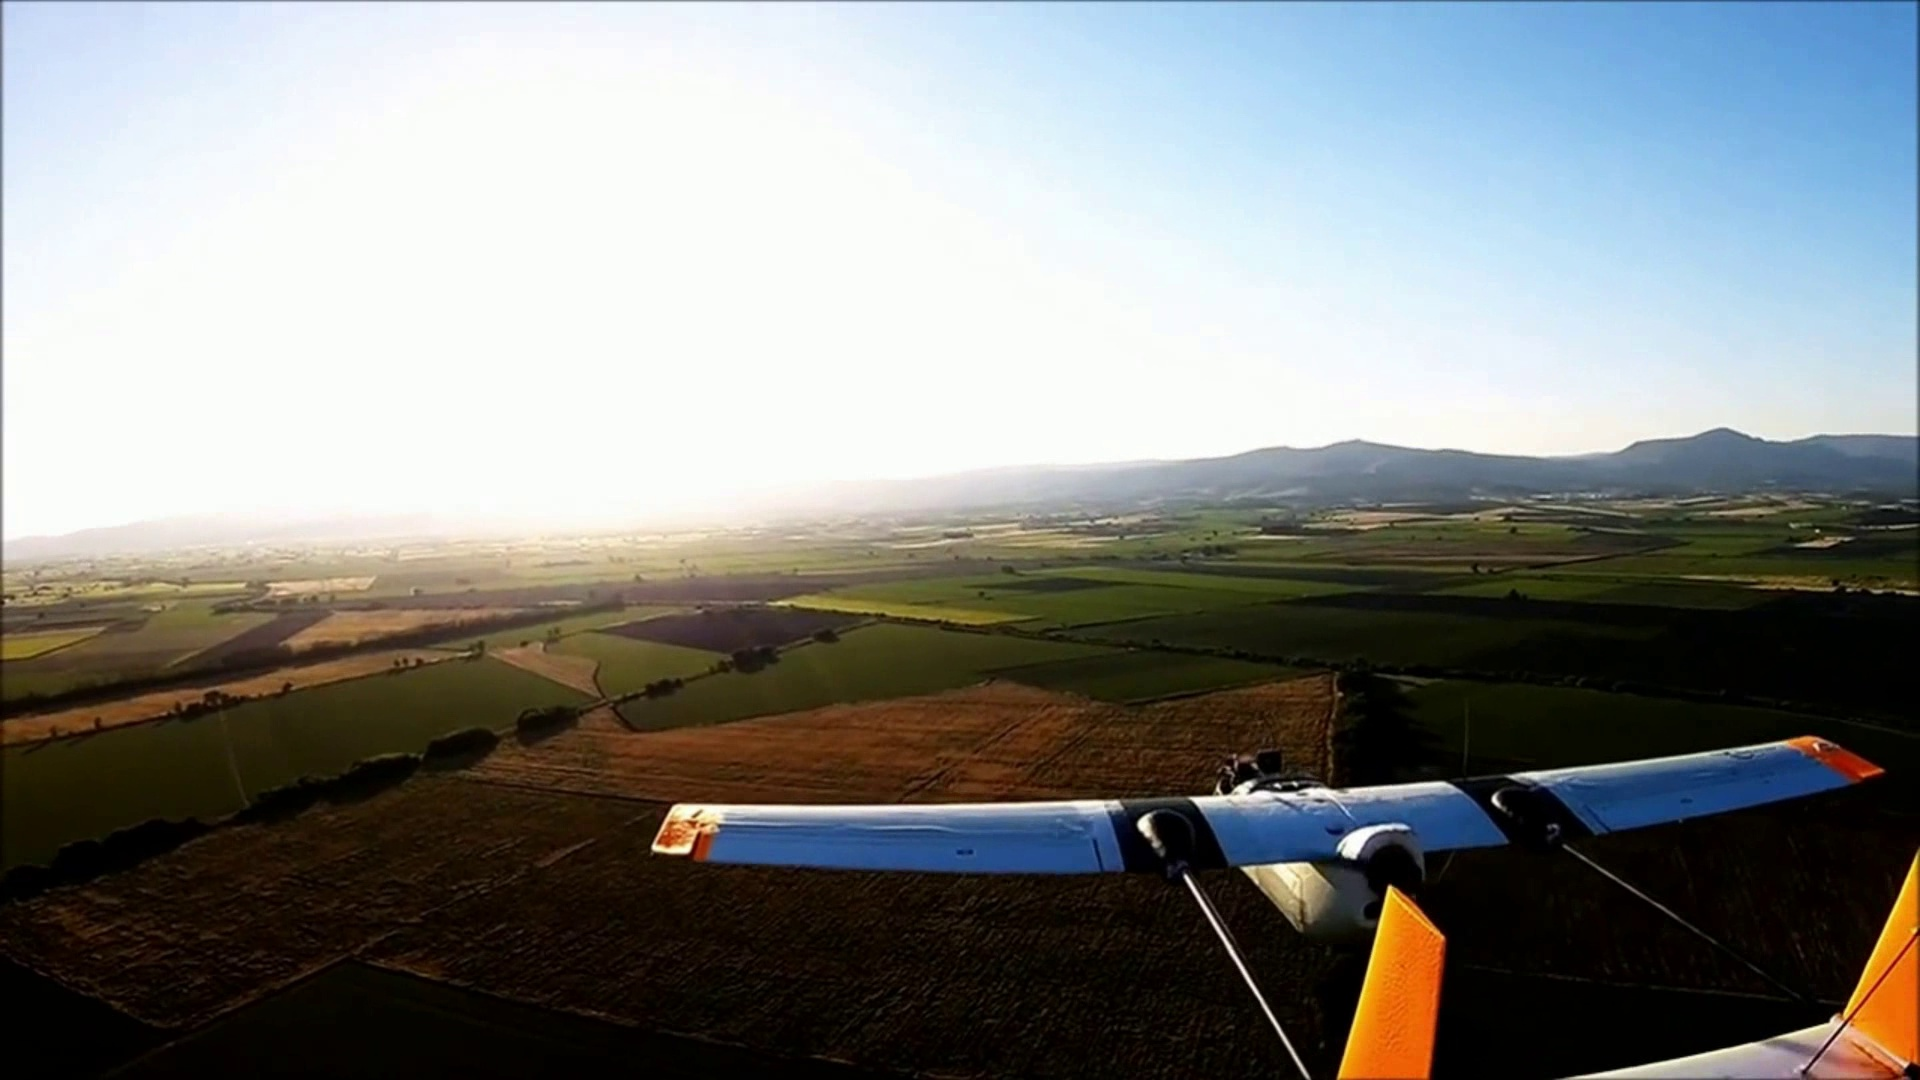airplane: (645, 733, 1891, 1069)
